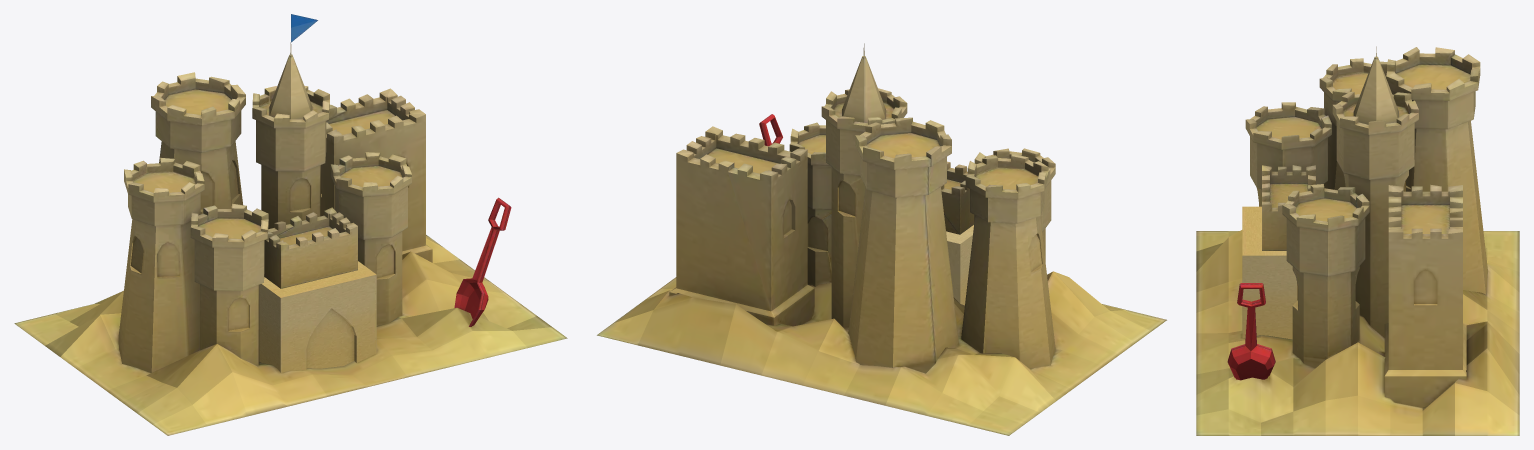
File: 7SHEIv4x4nv.glb
3 renders of one model, left to right at view 1: azimuth 30°, elevation 25°; view 2: azimuth 150°, elevation 25°; view 3: azimuth 270°, elevation 25°, orthographic. The views are drawn at different scales.
Visible parts, largest first — view 1: SandCastle_mesh; view 2: SandCastle_mesh; view 3: SandCastle_mesh.
Part boxes in pixels (<box>): SandCastle_mesh: <box>14,14,567,435</box>; SandCastle_mesh: <box>597,43,1166,435</box>; SandCastle_mesh: <box>1196,46,1519,435</box>.
Size of the model in its own units: 1.33 by 1 by 0.8841.
Materials: 1 (1 with a texture image).
